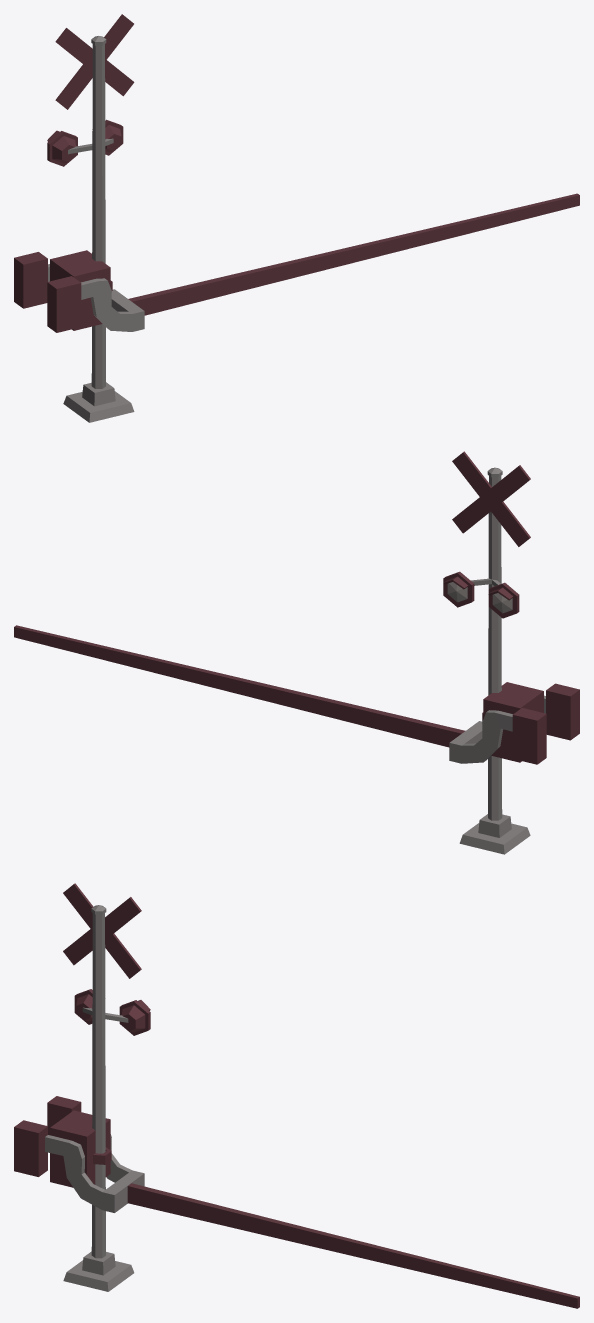
File: level-crossing.fbx
3 views of the same model, one above another, from view 1: azimuth 30°, elevation 25°; view 2: azimuth 150°, elevation 25°; view 3: azimuth 330°, elevation 25° (orthographic).
Visible parts, largest first — view 1: Barrier, Pole; view 2: Barrier, Pole; view 3: Barrier, Pole.
Boxes of the visible parts, x1,y1,x2,y2 form: Barrier: [14, 193, 579, 332]; Pole: [47, 14, 134, 422]; Barrier: [14, 625, 579, 764]; Pole: [443, 451, 543, 854]; Barrier: [14, 1096, 579, 1308]; Pole: [50, 883, 150, 1291].
Size of the model in its own units: 6.62 by 4.47 by 0.9002.
